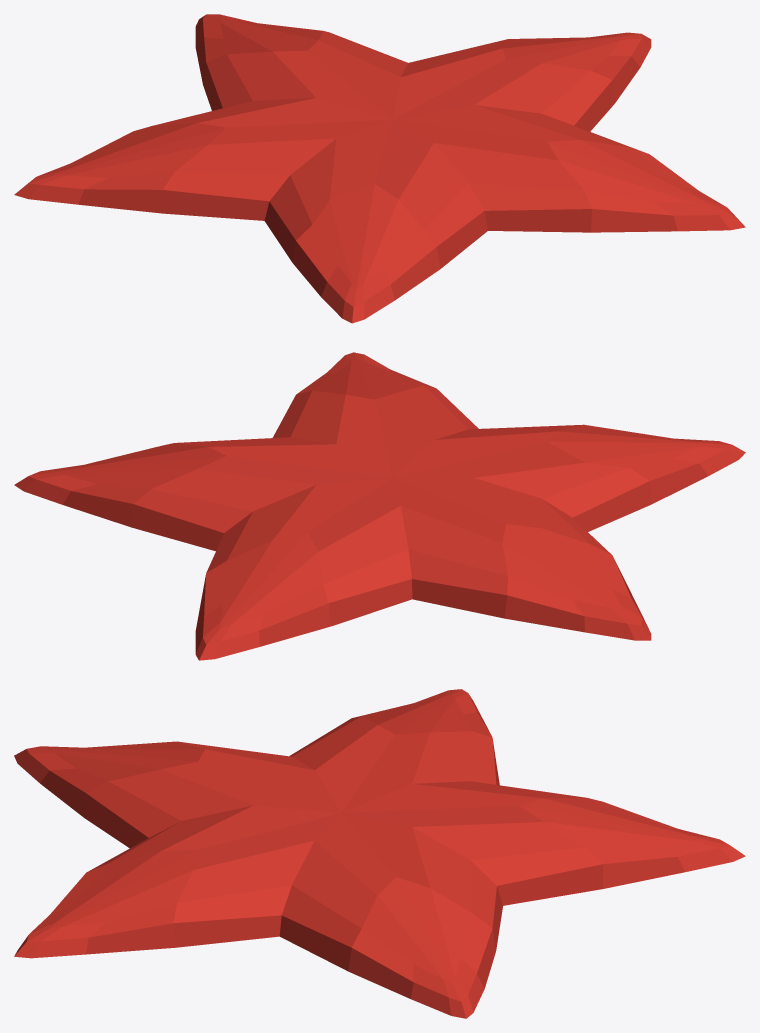
Rendered from Estrella.fbx.
The picture shows the model from 3 angles, top to bottom: view 1: azimuth 30°, elevation 25°; view 2: azimuth 150°, elevation 25°; view 3: azimuth 270°, elevation 25°; orthographic projection. The views are drawn at different scales.
Visible parts, largest first — view 1: Starfish; view 2: Starfish; view 3: Starfish.
Part boxes in pixels (<box>): Starfish: <box>14,14,745,323</box>; Starfish: <box>14,352,745,660</box>; Starfish: <box>14,689,745,1018</box>.
Bounding box in the file's own units: 36.28 × 2.88 × 34.5.
